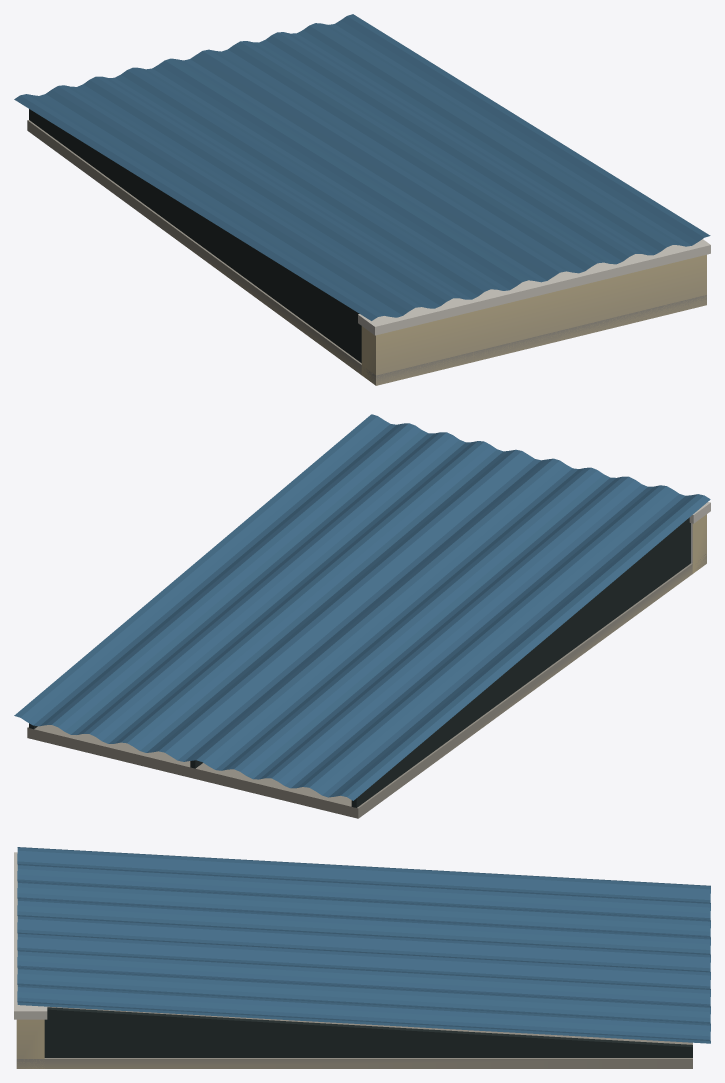
The model's file is mai_ton_40.glb.
The picture shows the model from 3 angles, top to bottom: view 1: azimuth 30°, elevation 25°; view 2: azimuth 150°, elevation 25°; view 3: azimuth 270°, elevation 25°; orthographic projection. The views are drawn at different scales.
Parts seen in each view (by area): view 1: mai_ton_40; view 2: mai_ton_40; view 3: mai_ton_40.
Part boxes in pixels (x1=…): mai_ton_40: x1=14, y1=14, x2=710, y2=385; mai_ton_40: x1=14, y1=414, x2=710, y2=818; mai_ton_40: x1=14, y1=847, x2=710, y2=1068.
Bounding box in the file's own units: 4.1 × 0.7882 × 7.52.
